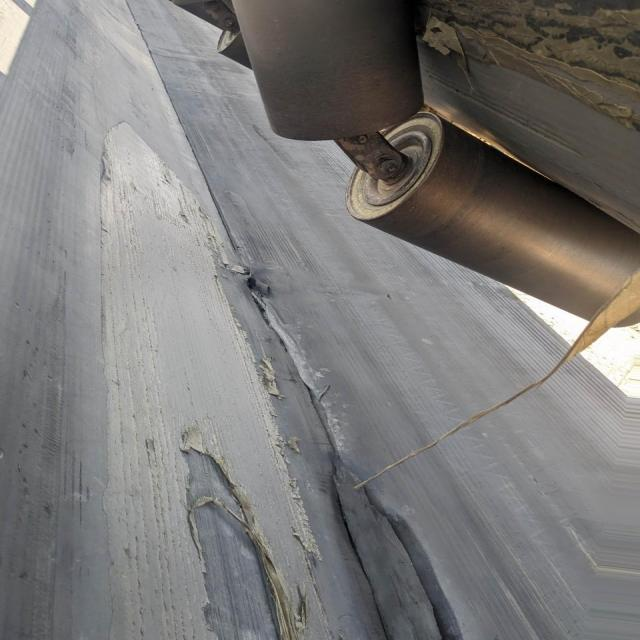Roller: (347, 110, 640, 333), (231, 0, 418, 138)
Tear: (228, 270, 393, 640), (189, 450, 289, 640)
